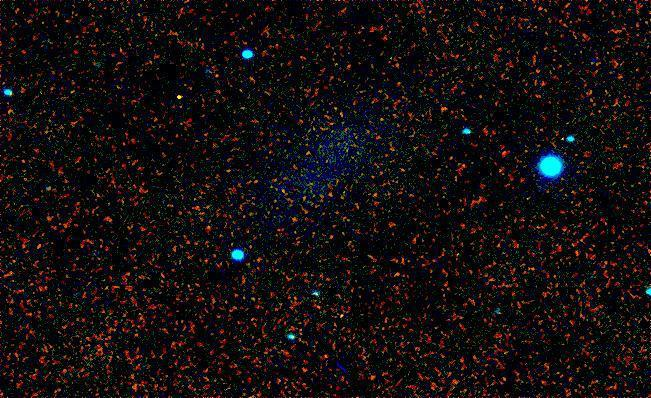star: (169, 84, 199, 114)
